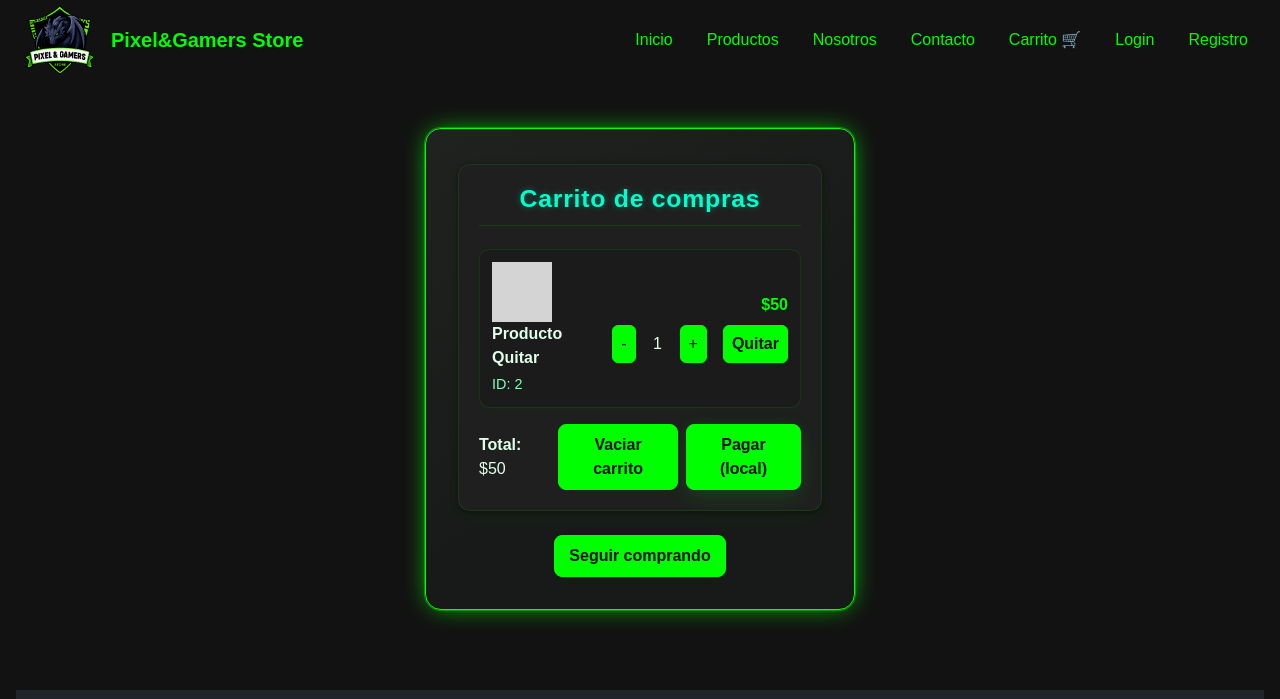
Scenario: Carrito › elimina producto del carrito al hacer clic en quitar
Expected: the text "Producto Quitar" is shown, [492,322,568,370]
Buscar y hacer clic en el botón Quitar
Click the button "Quitar".
click(755, 344)  # box [723,325,788,363]
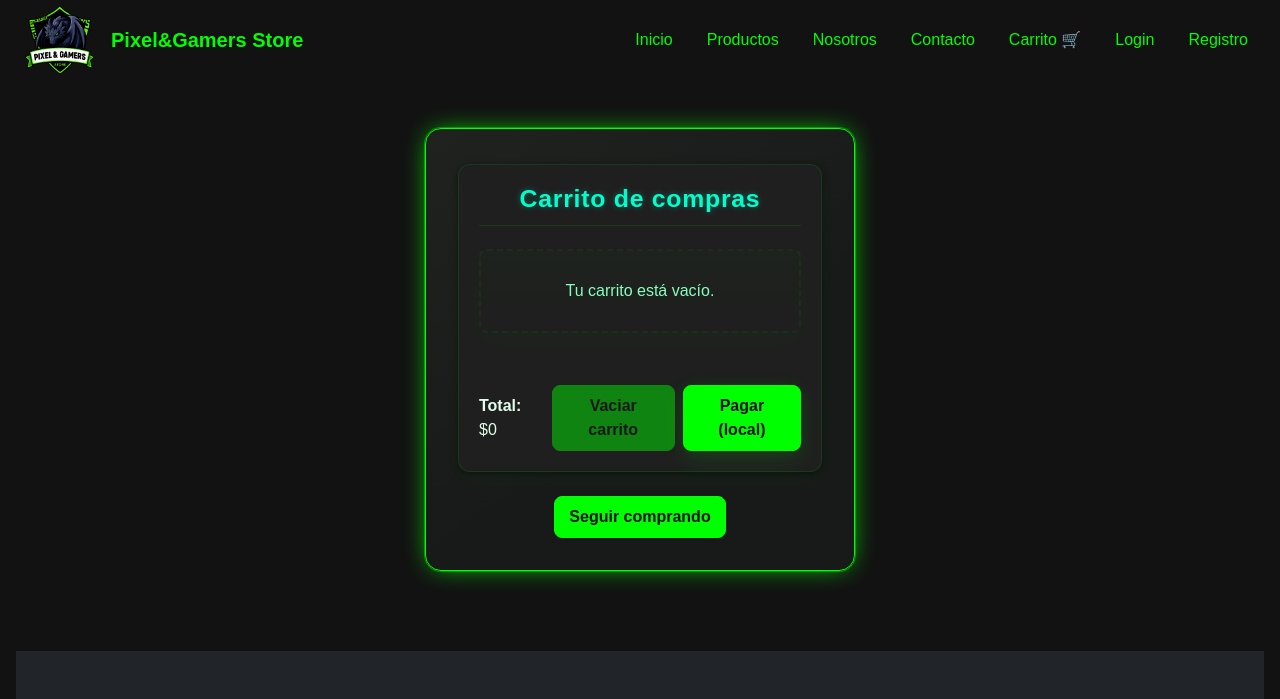
Now the text "Producto Quitar" is gone
Now the text "Tu carrito está vacío." is shown, box [479,249,801,333]
